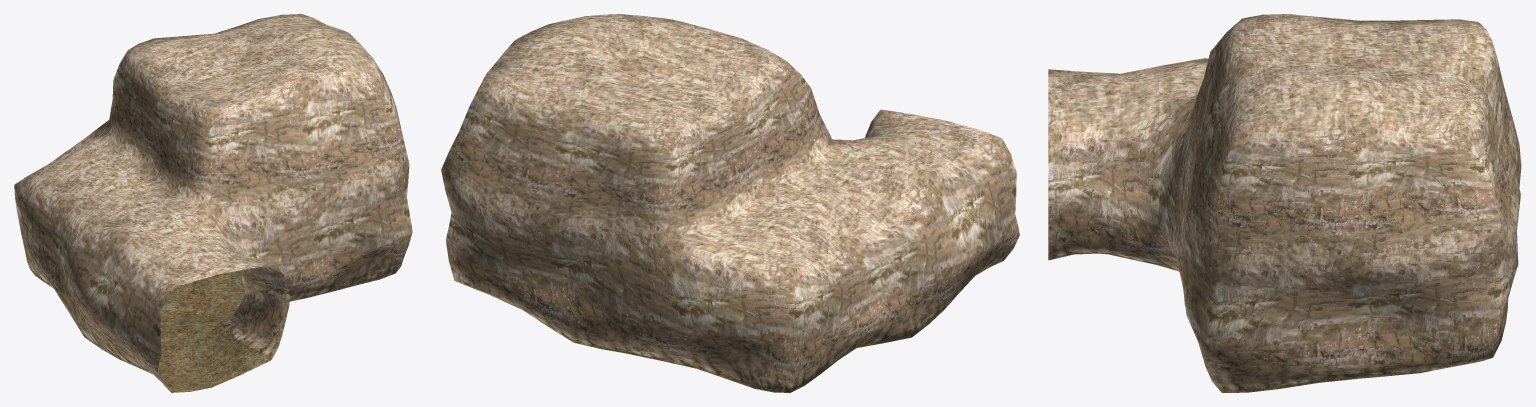
File: thm_all_cave_s02_mirror_r11_mesh_r11.fbx
3 renders of one model, left to right at view 1: azimuth 30°, elevation 25°; view 2: azimuth 150°, elevation 25°; view 3: azimuth 270°, elevation 25°, orthographic. The views are drawn at different scales.
Visible parts, largest first — view 1: mesh_node; view 2: mesh_node; view 3: mesh_node.
Boxes of the visible parts, x1,y1,x2,y2 form: mesh_node: [14, 14, 412, 392]; mesh_node: [441, 14, 1019, 392]; mesh_node: [1048, 14, 1521, 392].
Size of the model in its own units: 32.88 by 20.28 by 28.87.
